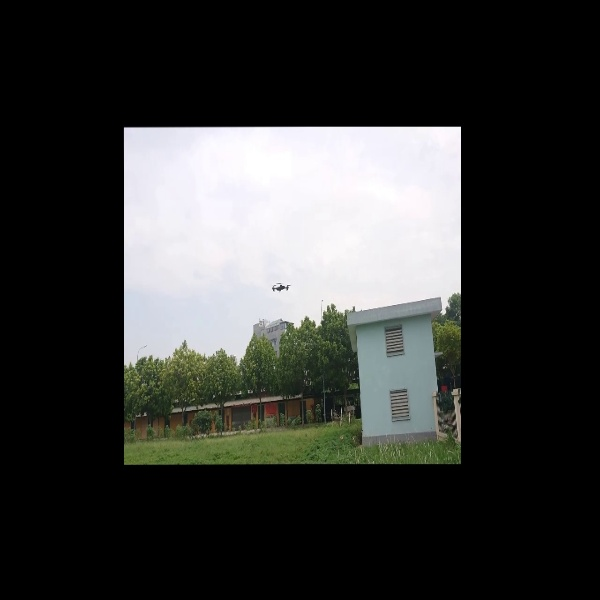drone: (267, 275, 293, 294)
